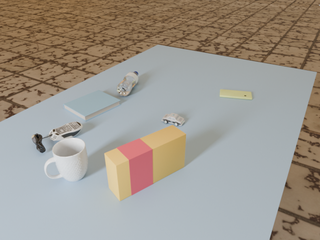book: (63, 90, 121, 121)
bottle: (117, 71, 138, 96)
box: (105, 125, 186, 201)
cup: (44, 138, 88, 182)
mouse: (48, 122, 82, 141)
phone: (220, 89, 252, 100)
toy_car: (162, 113, 185, 126)
